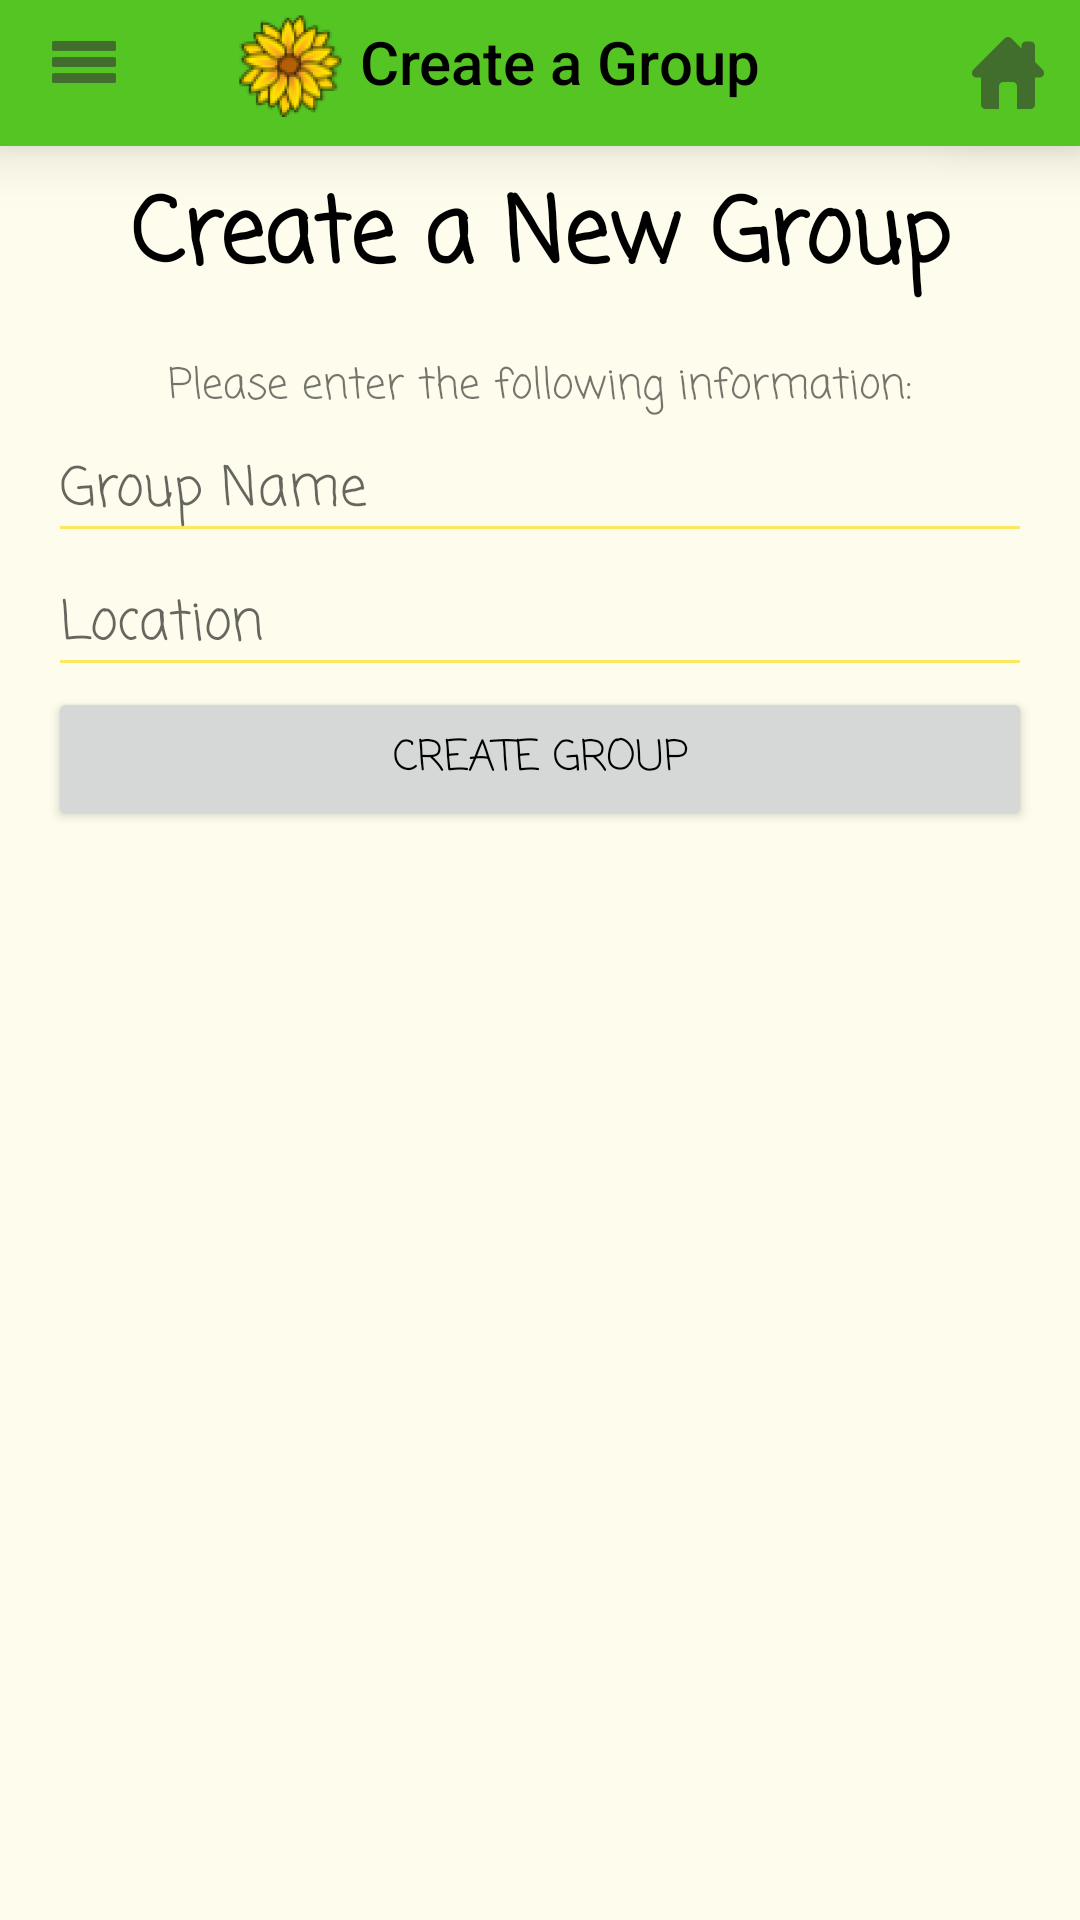

Screen size 1080px×1920px. Icon name, then its center in pixels as point (x, y):
home: point (1008, 73)
